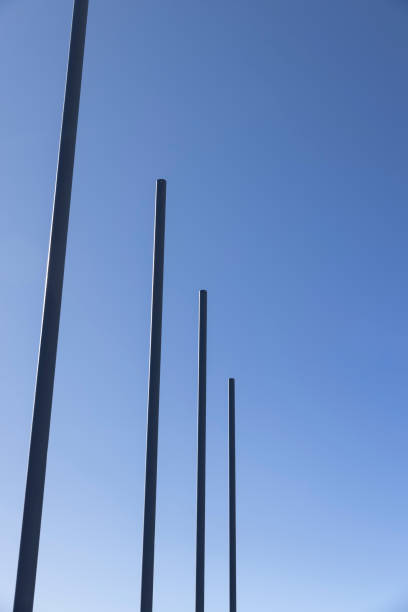light_pole: (9, 0, 92, 603), (134, 171, 168, 606), (189, 287, 210, 612), (222, 371, 242, 610)
